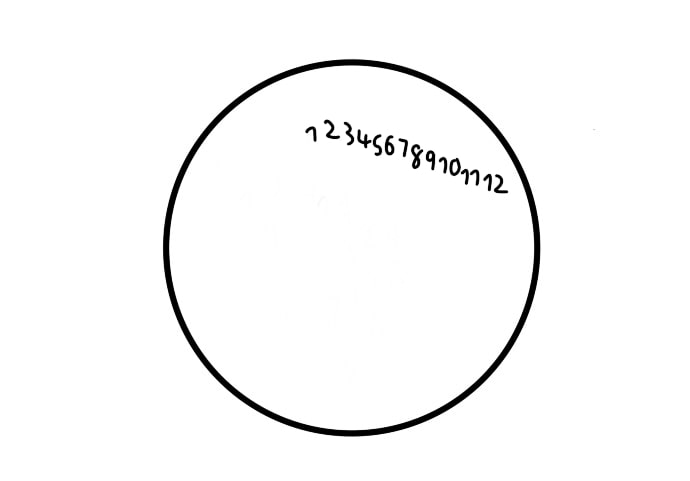eight: (409, 140, 424, 171)
eleven: (460, 166, 480, 187)
five: (371, 129, 383, 158)
four: (355, 124, 371, 153)
nine: (424, 148, 436, 171)
one: (303, 122, 319, 144)
seven: (397, 134, 409, 159)
six: (383, 129, 396, 157)
ten: (436, 154, 462, 177)
three: (342, 117, 355, 149)
twelve: (482, 171, 510, 195)
two: (321, 117, 342, 140)
